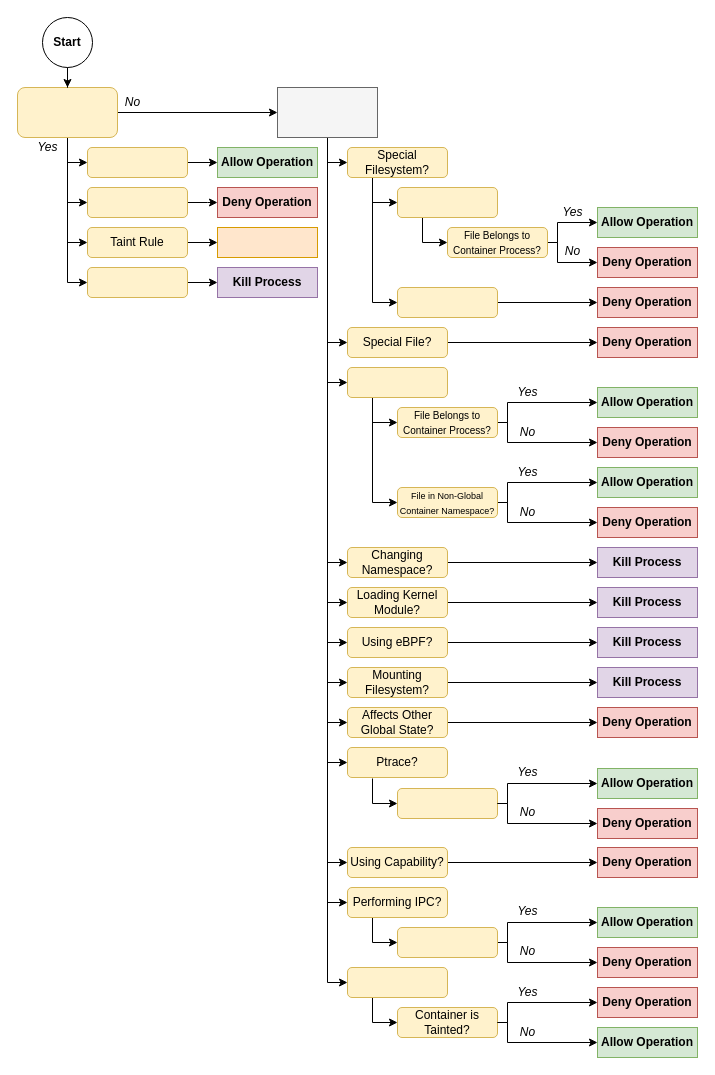
The diagram is 715 pixels wide and 1075 high, and some of its shapes have lost their labels. Here are the shapes that lost their labels. From the top down, the centre of each, then its label:
At pixel 67 112: "User-Defined Policy?".
At pixel 327 112: "Default Policy".
At pixel 137 162: "Allow Rule".
At pixel 137 202: "Deny Rule".
At pixel 447 202: "Procfs?".
At pixel 267 242: "Taint Process".
At pixel 137 282: "Kill Rule".
At pixel 447 302: "Other Security-Sensitive?".
At pixel 397 382: "Regular File?".
At pixel 447 803: "Both Processes Belong to Container?".
At pixel 447 942: "Process Belongs to Container?".
At pixel 397 982: "Anything Else".
